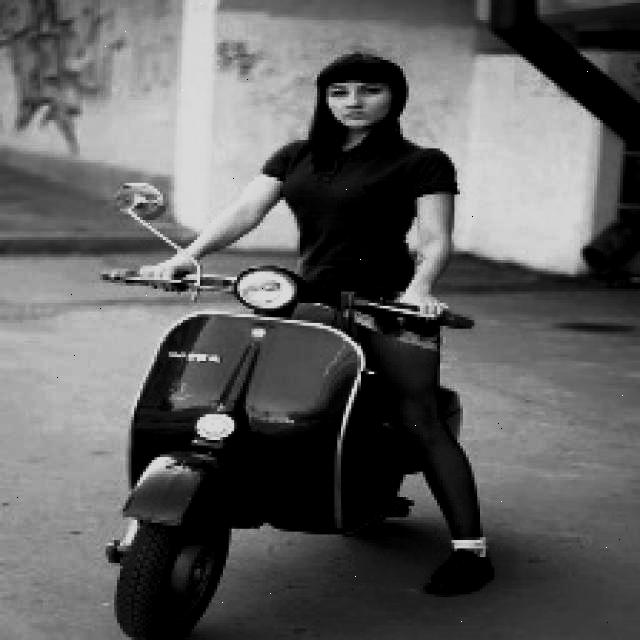Bike: (81, 265, 429, 631)
